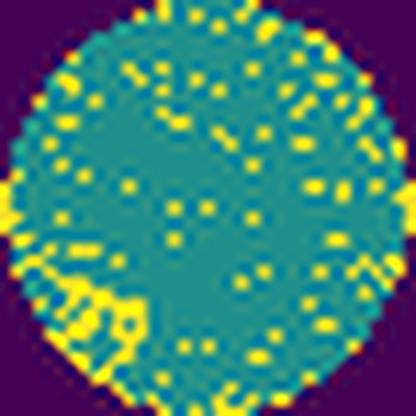Loc: (32, 254, 148, 384)
